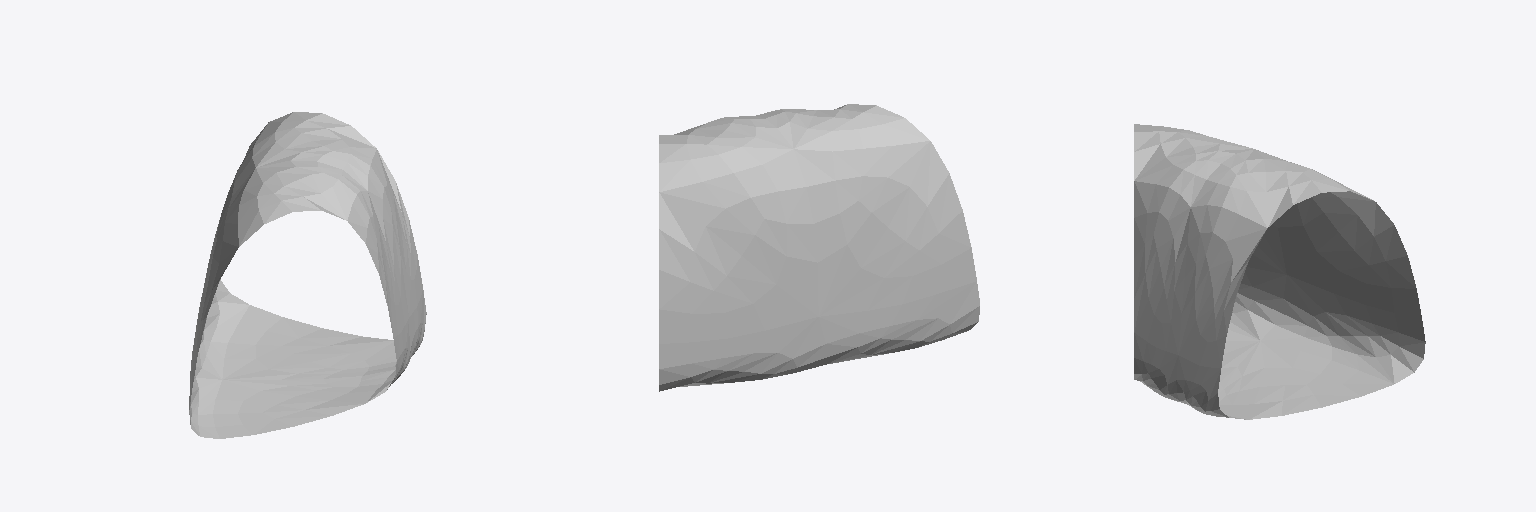
File: cave_601r_0.obj
3 renders of one model, left to right at view 1: azimuth 30°, elevation 25°; view 2: azimuth 150°, elevation 25°; view 3: azimuth 270°, elevation 25°, orthographic.
Parts seen in each view (by area): view 1: cave_601r_0_Cube.033; view 2: cave_601r_0_Cube.033; view 3: cave_601r_0_Cube.033.
Boxes of the visible parts, x1,y1,x2,y2 form: cave_601r_0_Cube.033: [189, 112, 426, 438]; cave_601r_0_Cube.033: [659, 104, 979, 391]; cave_601r_0_Cube.033: [1134, 124, 1425, 419].
Size of the model in its own units: 7.9 by 5.92 by 7.14.